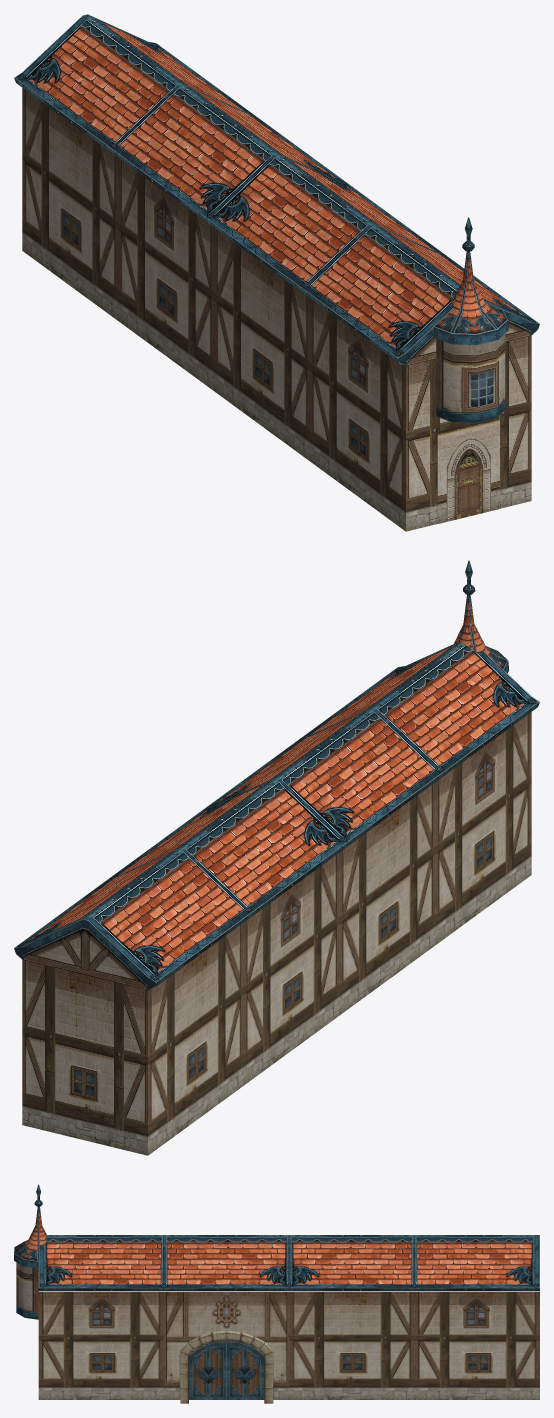
The picture shows the model from 3 angles, top to bottom: view 1: azimuth 30°, elevation 25°; view 2: azimuth 150°, elevation 25°; view 3: azimuth 270°, elevation 25°; orthographic projection. The views are drawn at different scales.
Parts seen in each view (by area): view 1: geom_node_3, geom_node_1, geom_node_0, geom_node_2; view 2: geom_node_0, geom_node_3, geom_node_2, geom_node_1; view 3: geom_node_3, geom_node_2, geom_node_1, geom_node_0.
Boxes of the visible parts, left/top/right/bottom form: geom_node_3: left=302, top=217, right=539, bottom=531; geom_node_1: left=110, top=84, right=347, bottom=390; geom_node_0: left=14, top=14, right=251, bottom=320; geom_node_2: left=206, top=154, right=443, bottom=460; geom_node_0: left=14, top=849, right=251, bottom=1155; geom_node_3: left=302, top=560, right=539, bottom=944; geom_node_2: left=206, top=708, right=443, bottom=1014; geom_node_1: left=110, top=779, right=347, bottom=1085; geom_node_3: left=14, top=1184, right=163, bottom=1399; geom_node_2: left=164, top=1235, right=289, bottom=1403; geom_node_1: left=289, top=1235, right=414, bottom=1399; geom_node_0: left=414, top=1235, right=539, bottom=1399.
Bounding box in the file's own units: 4.29 × 8.72 × 21.02.
Materials: 14 (14 with a texture image).
